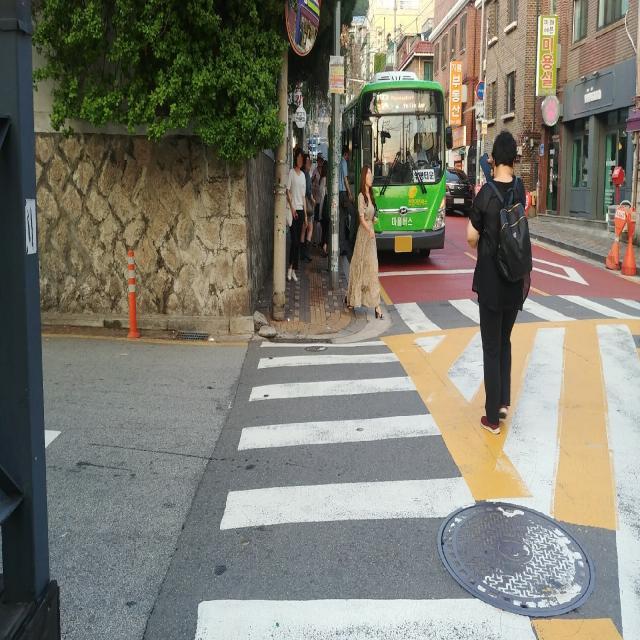횡단보도: (194, 340, 537, 640)
